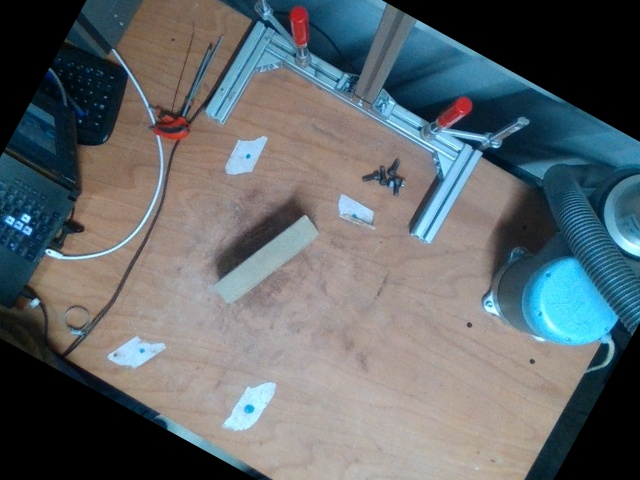brick-side: (215, 218, 318, 302)
